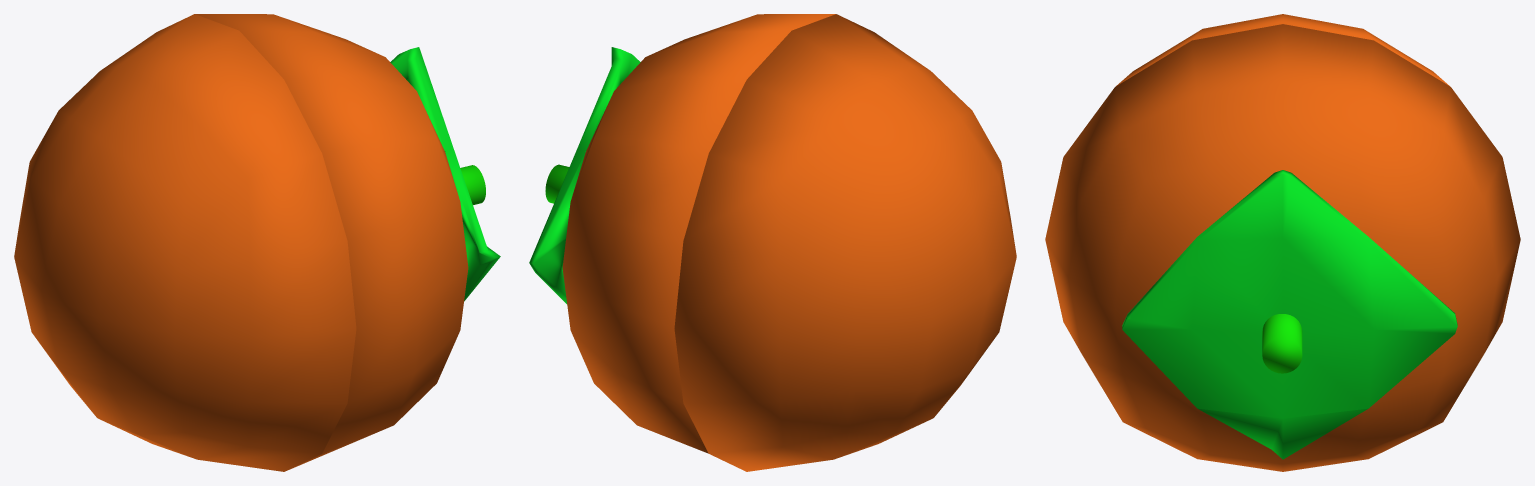
File: orange.fbx
The picture shows the model from 3 angles, left to right: view 1: azimuth 30°, elevation 25°; view 2: azimuth 150°, elevation 25°; view 3: azimuth 270°, elevation 25°; orthographic projection.
Visible parts, largest first — view 1: Cube, Cube.002, Cube.001, Cylinder; view 2: Cube, Cube.002, Cube.001, Cylinder; view 3: Cube.002, Cube.001, Cube, Cylinder.
Boxes of the visible parts, x1=… form: Cube: x1=14, y1=14, x2=356, y2=471; Cube.002: x1=195, y1=14, x2=468, y2=469; Cube.001: x1=390, y1=47, x2=500, y2=301; Cylinder: x1=460, y1=165, x2=485, y2=205; Cube: x1=674, y1=14, x2=1016, y2=471; Cube.002: x1=562, y1=14, x2=835, y2=453; Cube.001: x1=529, y1=47, x2=640, y2=304; Cylinder: x1=545, y1=164, x2=569, y2=203; Cube.002: x1=1045, y1=24, x2=1520, y2=471; Cube.001: x1=1122, y1=170, x2=1457, y2=459; Cube: x1=1116, y1=14, x2=1449, y2=86; Cylinder: x1=1262, y1=314, x2=1302, y2=373.
Size of the model in its own units: 371 by 346 by 346.
